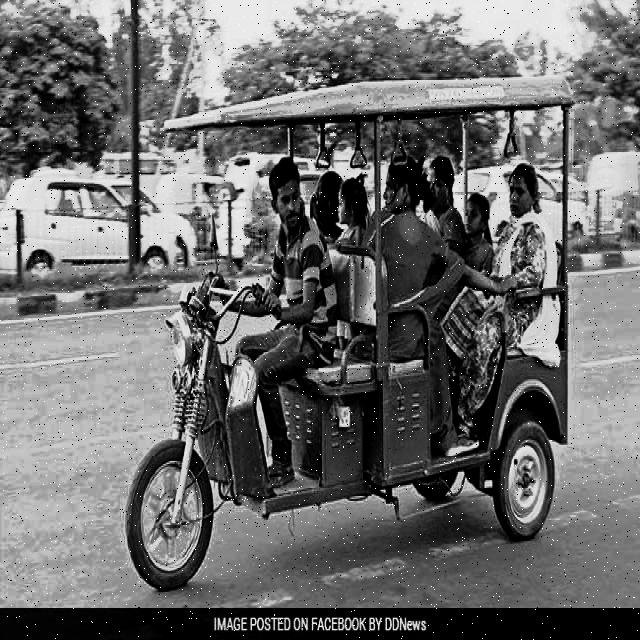Toto: (126, 67, 580, 591)
